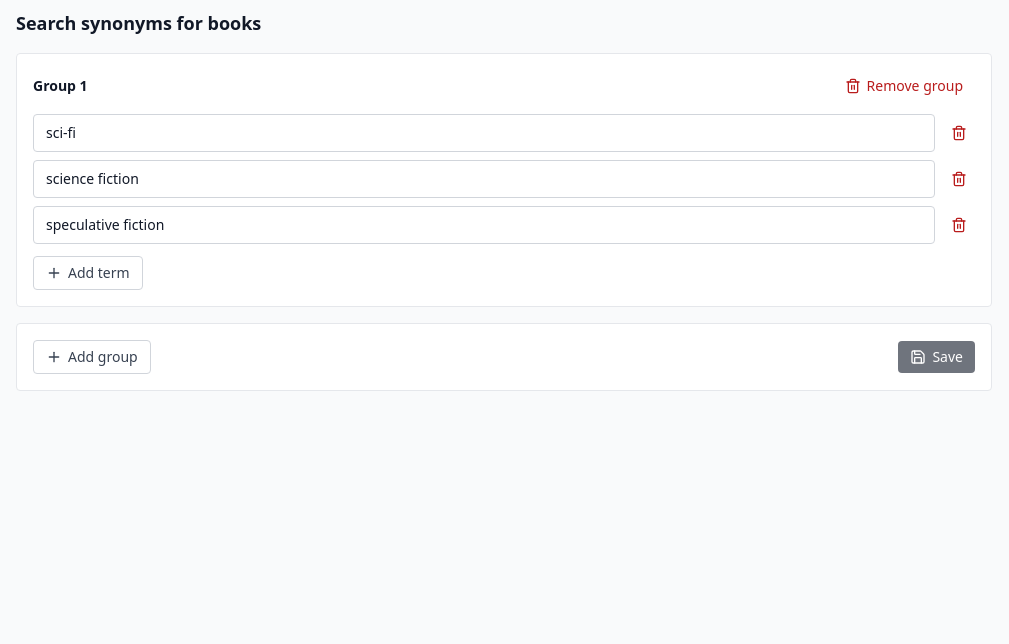
Test: SynonymsEditor › supports add, remove, edit flows and sends the trimmed full-replacement payload
The image size is (1009, 644).
Expected: the 1st field showing "sci-fi" is shown, [33,114,935,152]
Click the button named "Remove term speculative fiction" at (959,225), box [943,211,975,239]
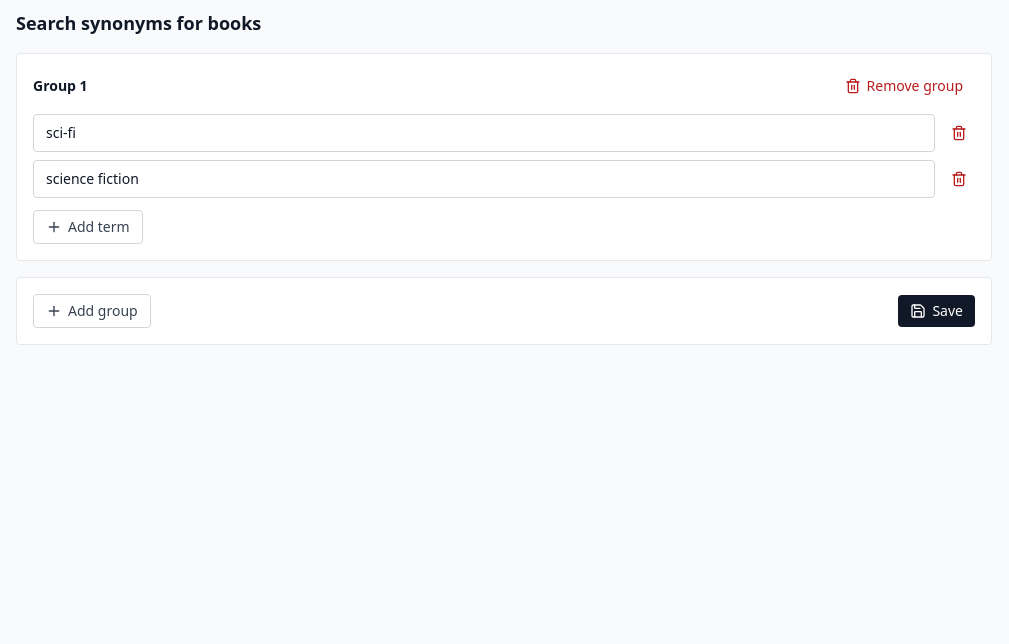
Replace the text in the 1st field named "Term 1 in group 1" with " science fiction " at (484,133), box [33,114,935,152]
Replace the text in the 2nd field named "Term 2 in group 1" with " sf " at (484,179), box [33,160,935,198]
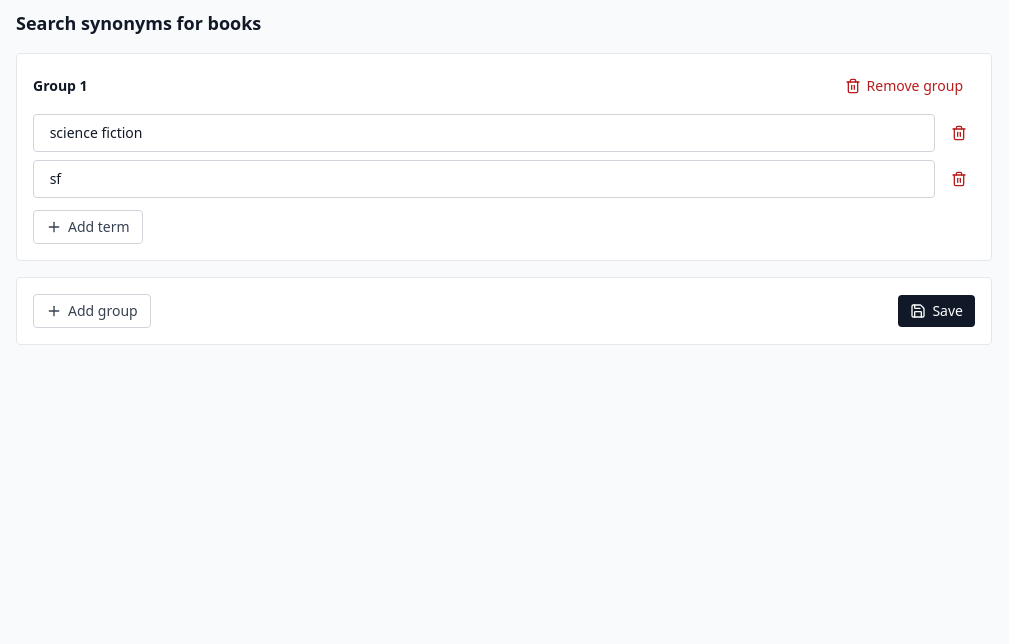
Click the button "Add group" at (92,311), box [33,294,151,328]
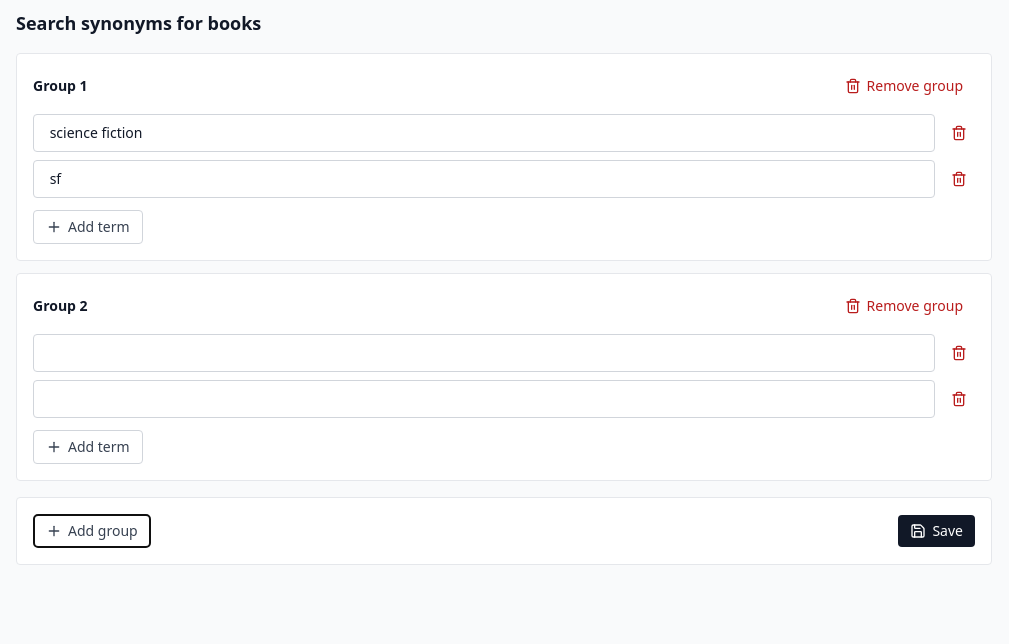
Type " space opera " into the 3rd field at (484,353), box [33,334,935,372]
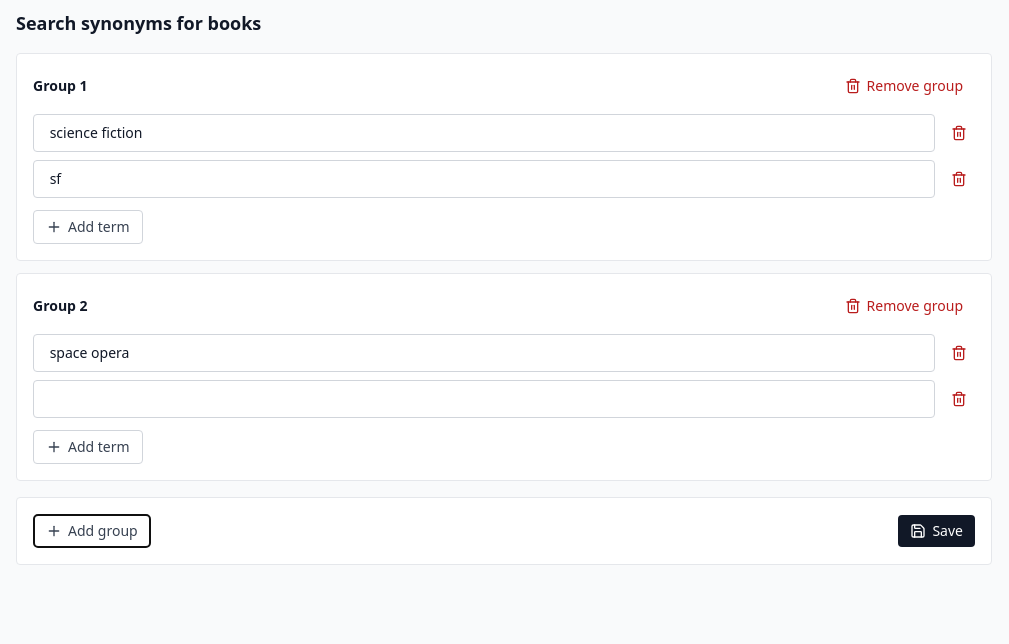
Type " galactic adventure " into the 4th field at (484,399), box [33,380,935,418]
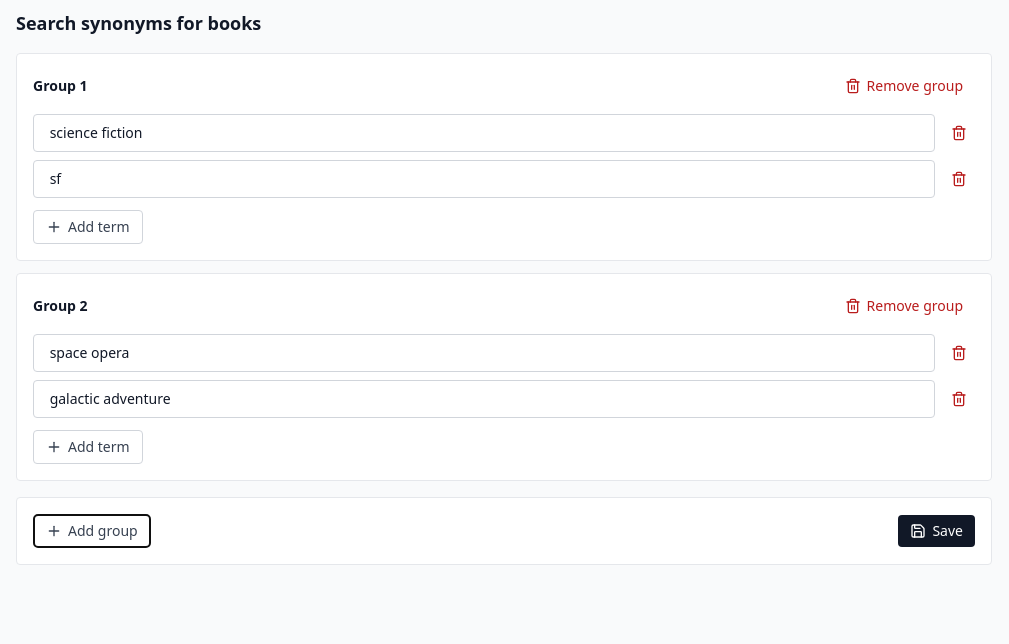
Click the button "Save" at (937,531), box [898,515,975,547]
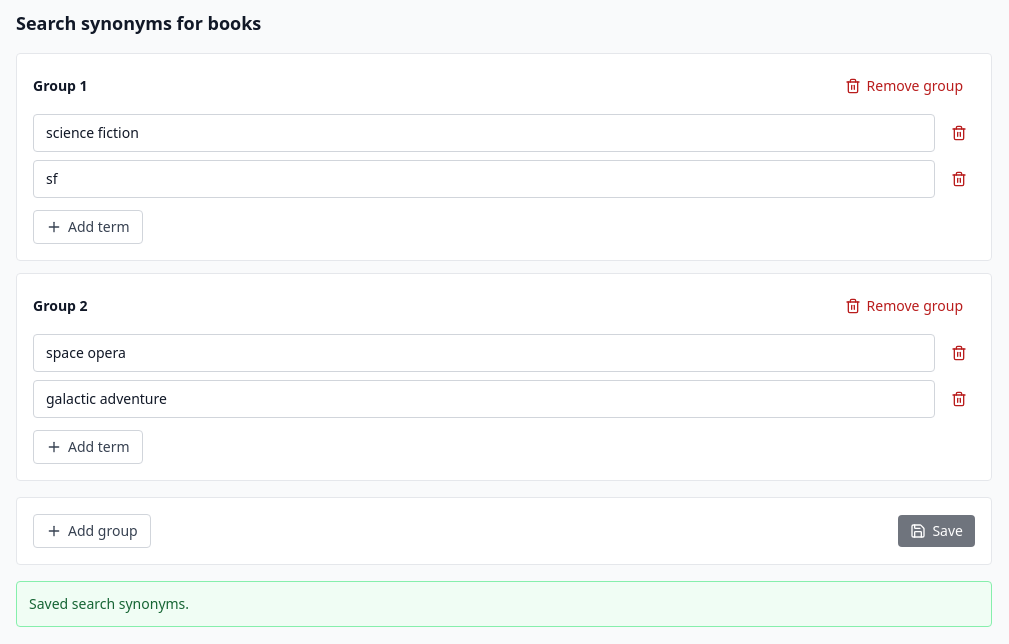
Expected: the message reads "Saved search synonyms.", [29,594,189,613]
